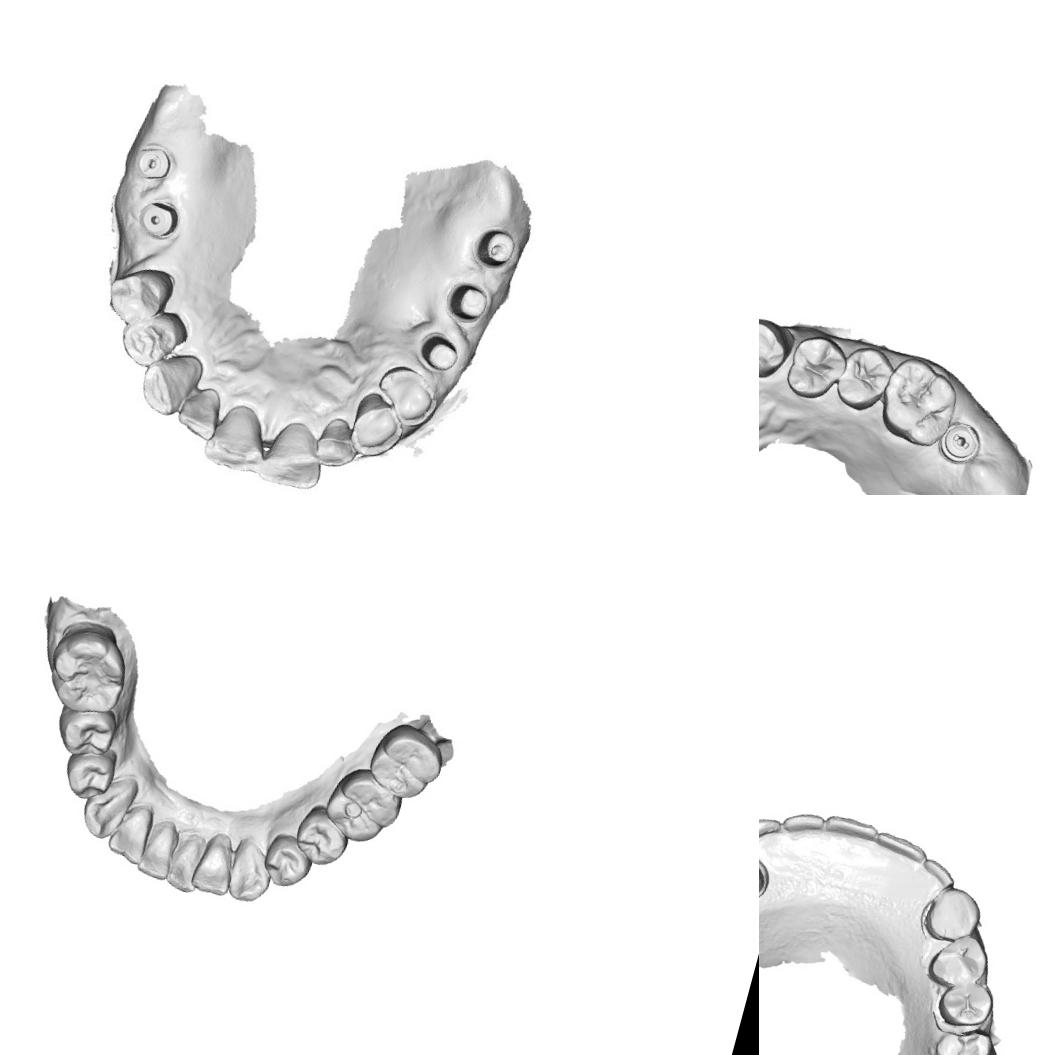abutment: (440, 275, 498, 329), (412, 324, 464, 378), (470, 222, 522, 274)
canine: (133, 342, 205, 424), (76, 767, 140, 845), (344, 389, 408, 463), (920, 881, 987, 949), (223, 836, 279, 906), (759, 309, 799, 384), (759, 807, 784, 859)
implant: (126, 138, 179, 194), (133, 193, 184, 247)
implant_minus: (934, 416, 988, 468)
incisor: (256, 412, 335, 495), (199, 396, 275, 481), (188, 826, 241, 898), (102, 796, 156, 866), (172, 379, 228, 445), (311, 412, 364, 474), (134, 814, 181, 881), (162, 827, 208, 894), (870, 828, 931, 874), (819, 808, 880, 854), (913, 855, 959, 900), (778, 804, 827, 843)
molar: (38, 614, 138, 722), (870, 350, 966, 454), (318, 760, 408, 850), (362, 716, 450, 806), (924, 1018, 1000, 1055)
premolar: (778, 326, 852, 407), (99, 256, 176, 331), (368, 359, 444, 433), (828, 338, 898, 418), (112, 305, 189, 377), (923, 926, 993, 996), (50, 696, 121, 764), (289, 802, 354, 870), (932, 972, 999, 1034), (58, 739, 119, 805), (258, 830, 317, 892)
